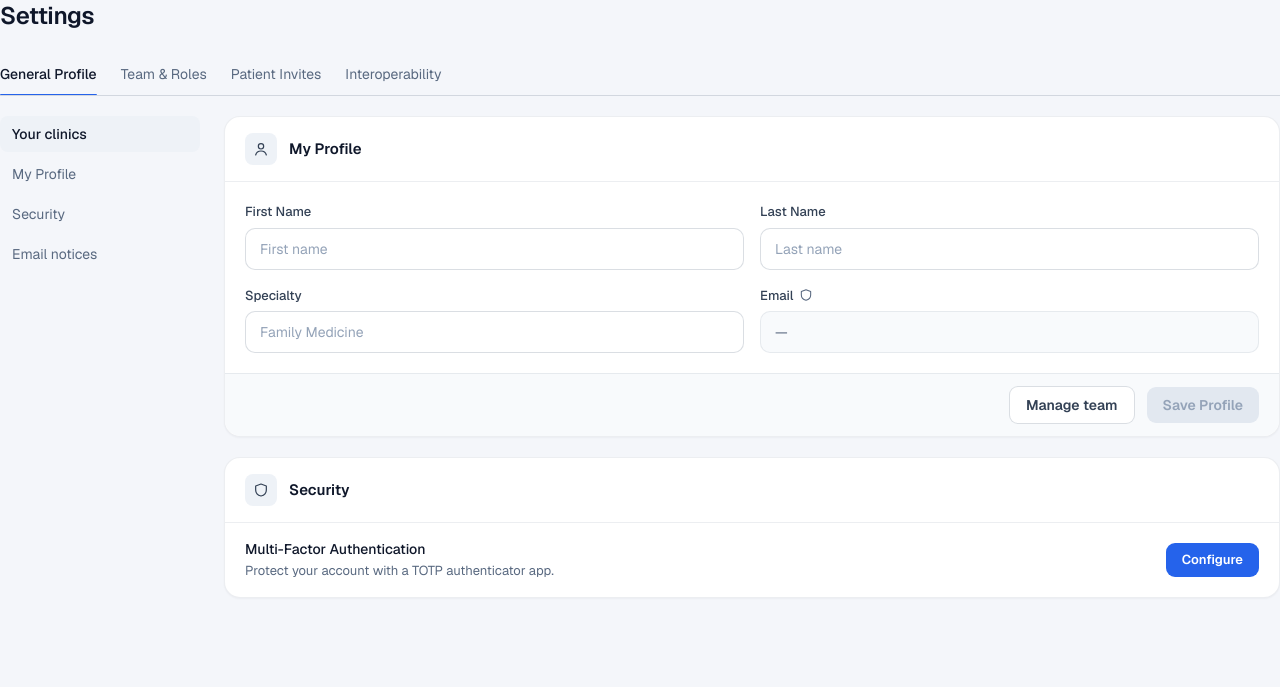
Settings team and roles › clinic-scoped actions › shows staff role and removal actions only to an admin at the picked clinic
Click the button "Team & Roles": click(164, 74) [121,52,207,96]
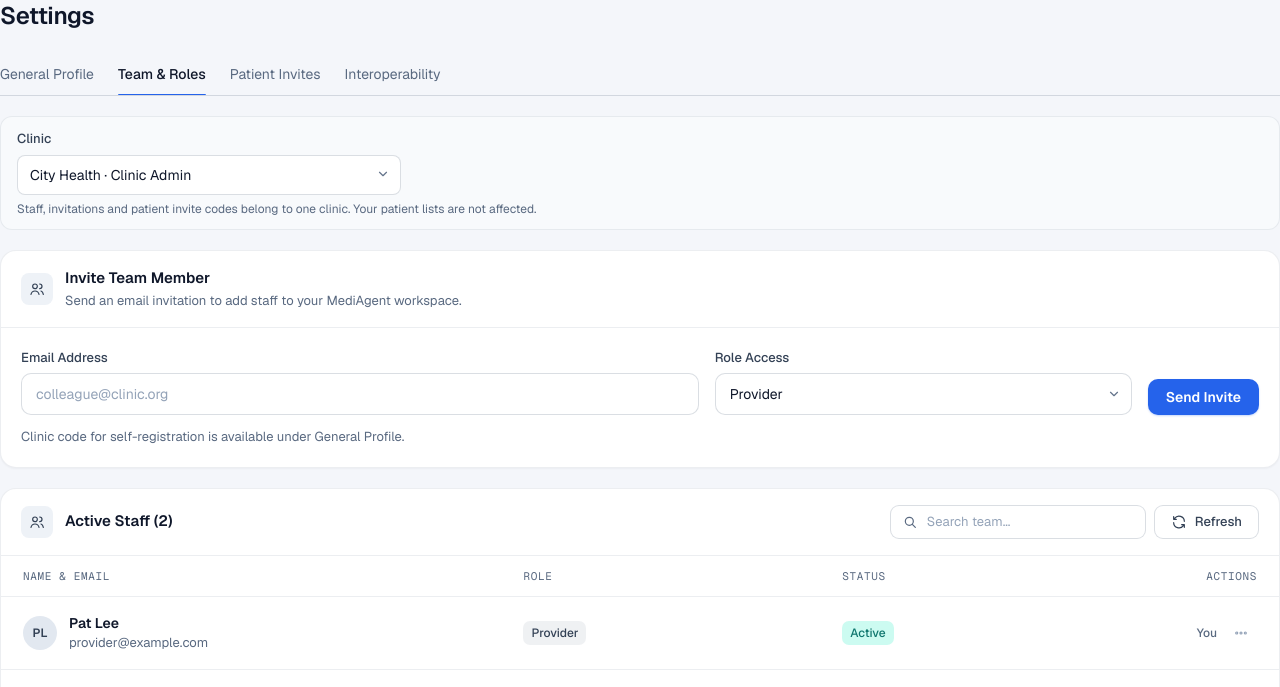
Now the heading "Active Staff (2)" is shown, box [65,510,172,533]
Select "Bay Clinic · Provider" in the dropdown labelled "Clinic": (209, 174) [17,154,401,194]
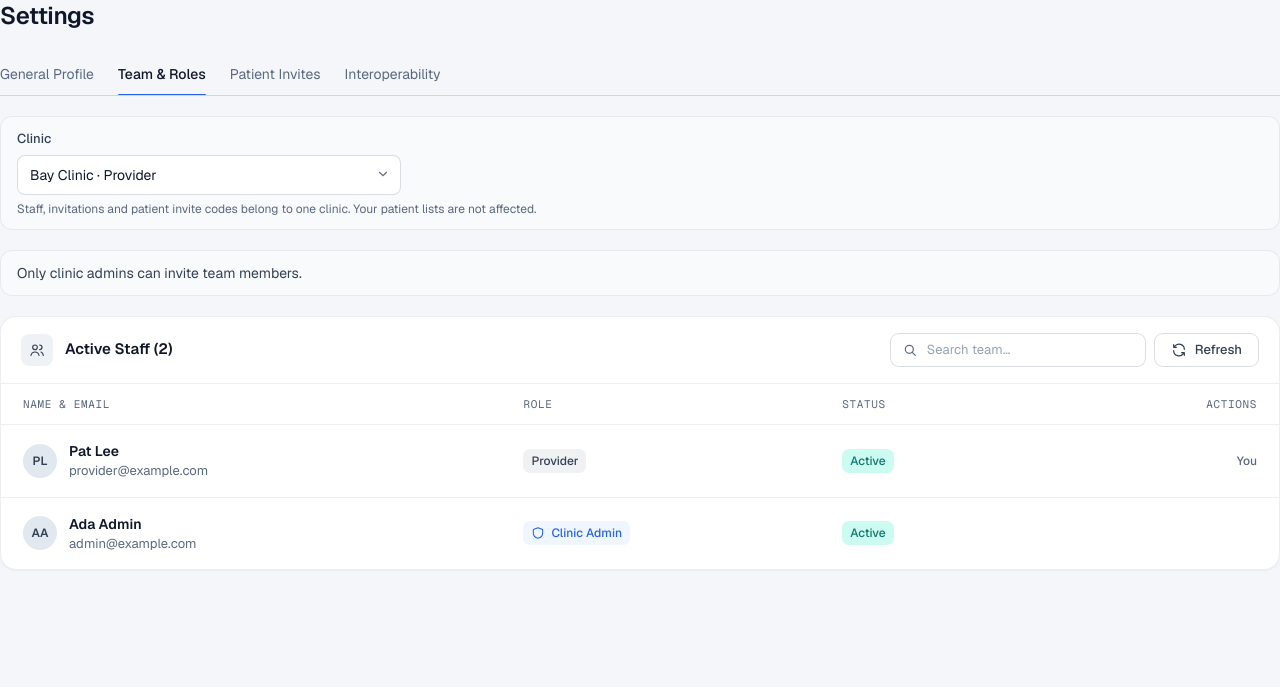
Now the text "admin@example.com" is shown, box [69,534,196,553]
Now the text "Only clinic admins can invite team members." is shown, box [0,250,1279,296]
